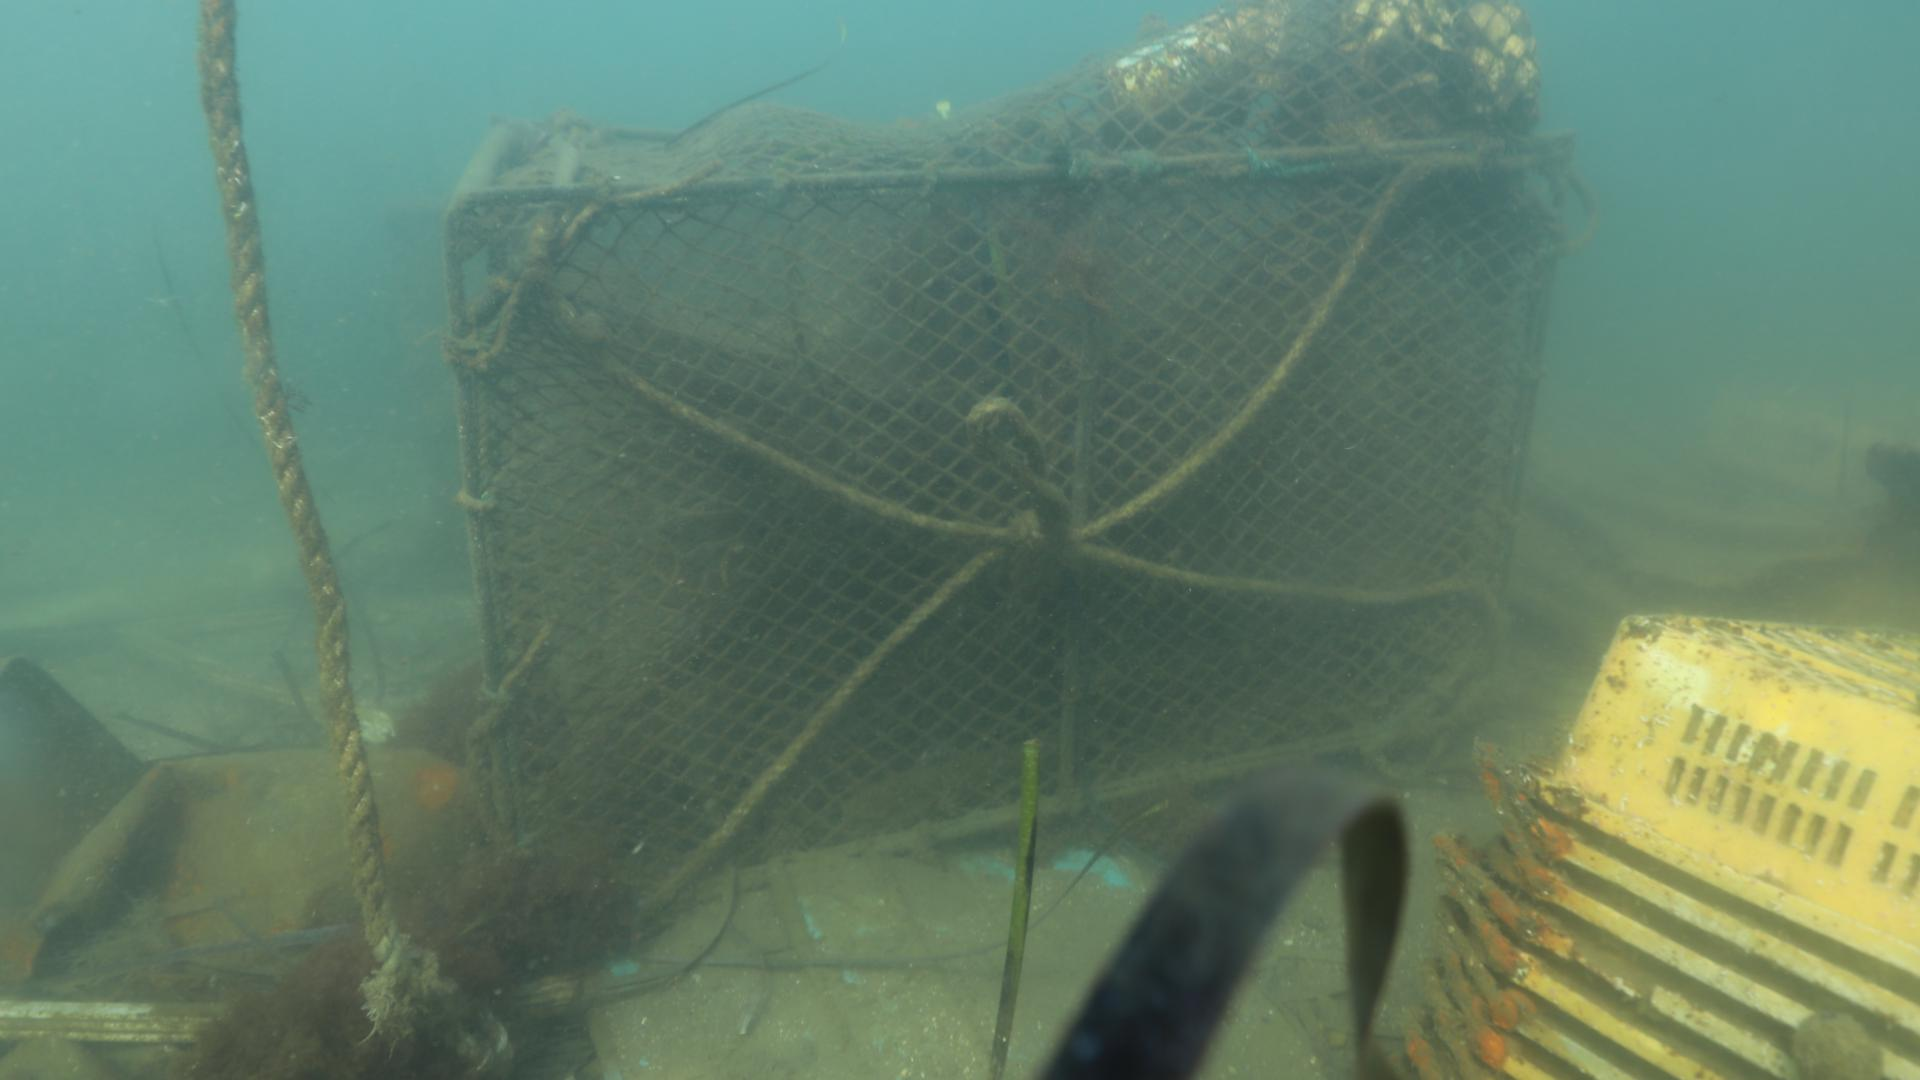rectangular fish trap: (436, 94, 1580, 945)
rope: (193, 0, 447, 1050)
